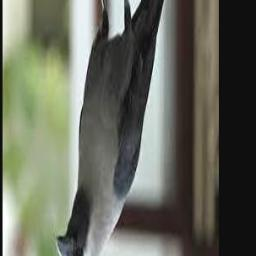Crow: (56, 0, 175, 256)
